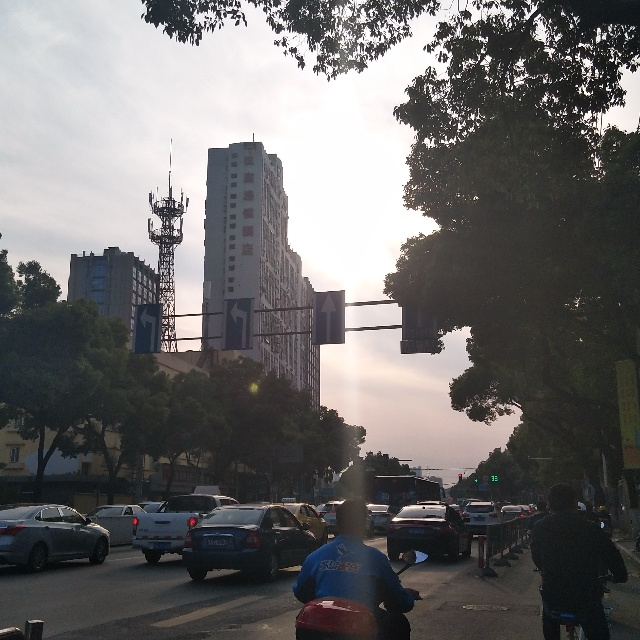left: (224, 298, 253, 349), (134, 303, 162, 354)
straight: (316, 292, 343, 343)
